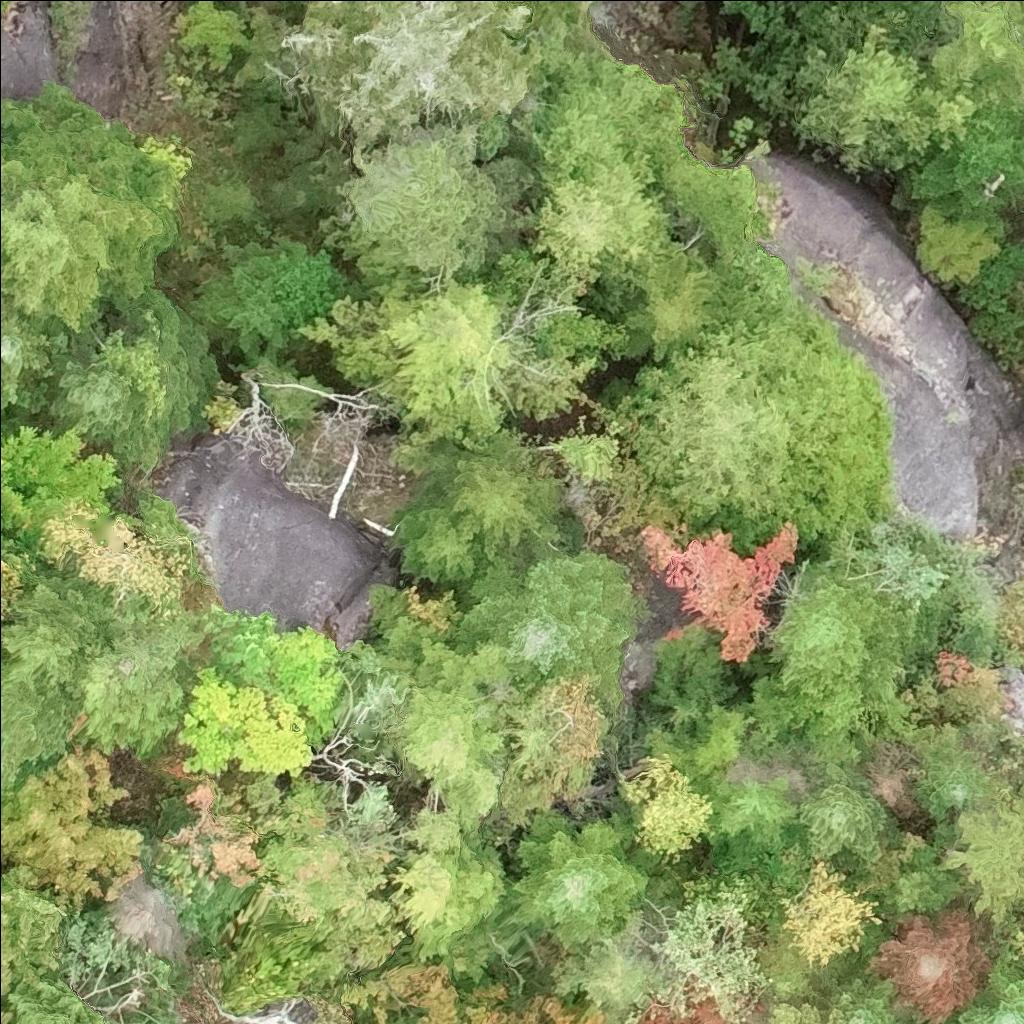crown: (630, 317, 864, 554), (235, 0, 584, 152), (0, 80, 173, 330), (297, 275, 516, 454), (321, 121, 533, 289), (456, 544, 655, 708), (768, 565, 927, 732), (644, 519, 798, 666), (510, 145, 670, 281), (512, 809, 650, 947), (433, 431, 560, 566), (864, 907, 997, 1023), (190, 240, 291, 356), (615, 754, 716, 867), (796, 764, 888, 863), (264, 229, 347, 336), (0, 294, 55, 416), (915, 743, 992, 823), (954, 963, 1023, 1023), (832, 977, 905, 1023), (765, 1000, 844, 1023)
